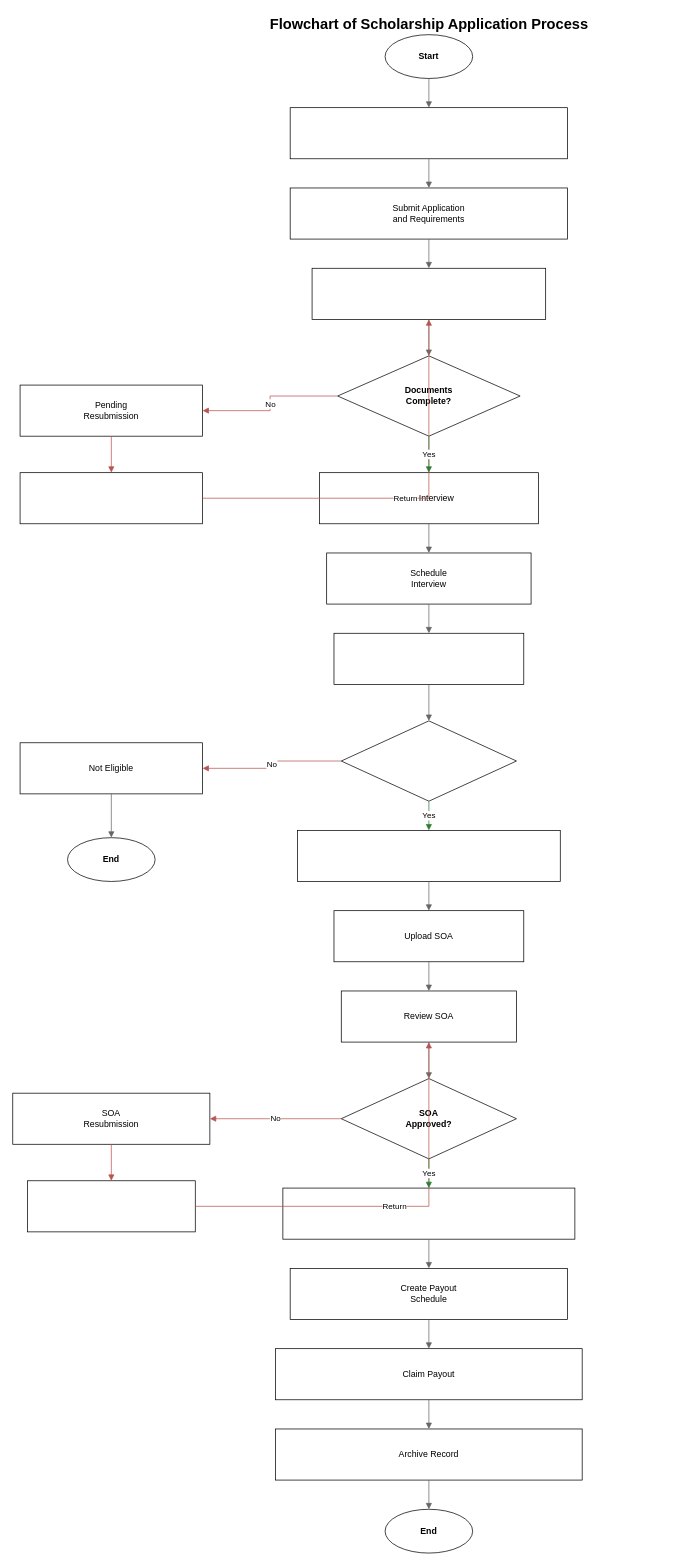
The diagram is 675 pixels wide and 1566 high, and some of its shapes have lost their labels. Here are the shapes that lost their labels. From the top down, the box of each, then its label:
(289, 107, 568, 159): Register, Verify OTP, and Log In
(311, 268, 546, 319): Review Documents
(19, 472, 203, 524): Resubmit Documents
(333, 633, 524, 684): Attend Interview
(341, 720, 516, 801): Interview Passed?
(297, 830, 560, 881): Await SOA
(27, 1180, 195, 1232): Resubmit SOA
(282, 1187, 575, 1239): Approved Pending Payroll
